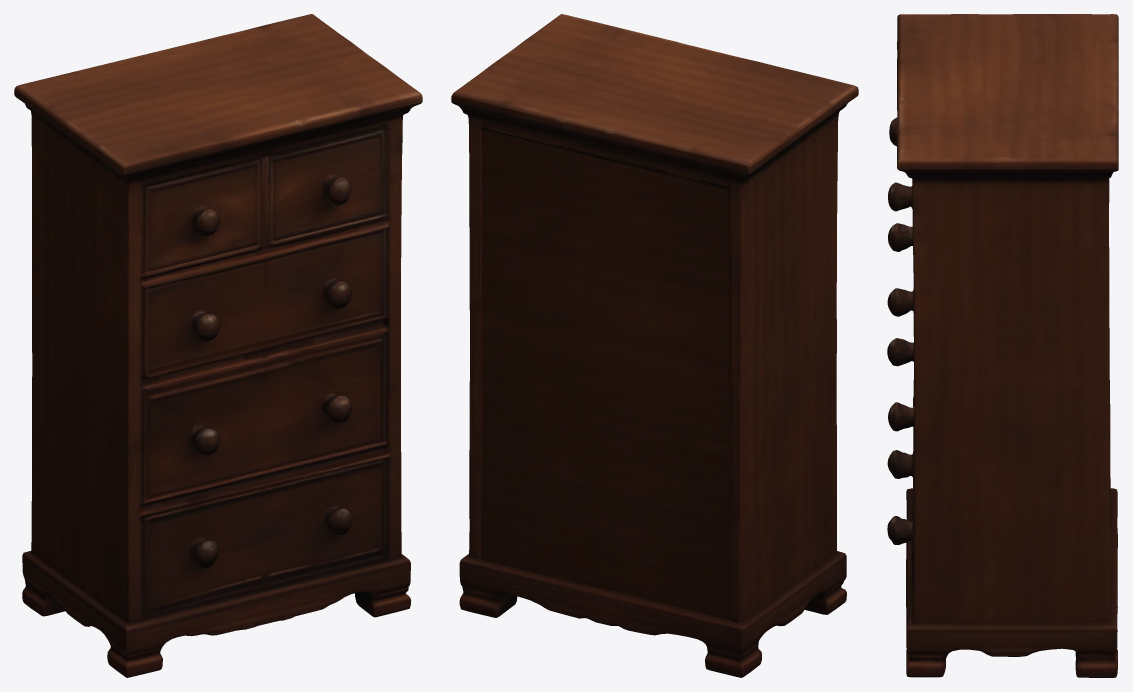
The model's file is drawers_vertical.glb.
3 renders of one model, left to right at view 1: azimuth 30°, elevation 25°; view 2: azimuth 150°, elevation 25°; view 3: azimuth 270°, elevation 25°, orthographic.
Parts seen in each view (by area): view 1: geometry_0; view 2: geometry_0; view 3: geometry_0.
Part boxes in pixels (<box>): geometry_0: <box>14,14,422,677</box>; geometry_0: <box>451,14,858,677</box>; geometry_0: <box>887,14,1118,677</box>.
Size of the model in its own units: 0.6059 by 1 by 0.4018.
1 material, 1 textured.
